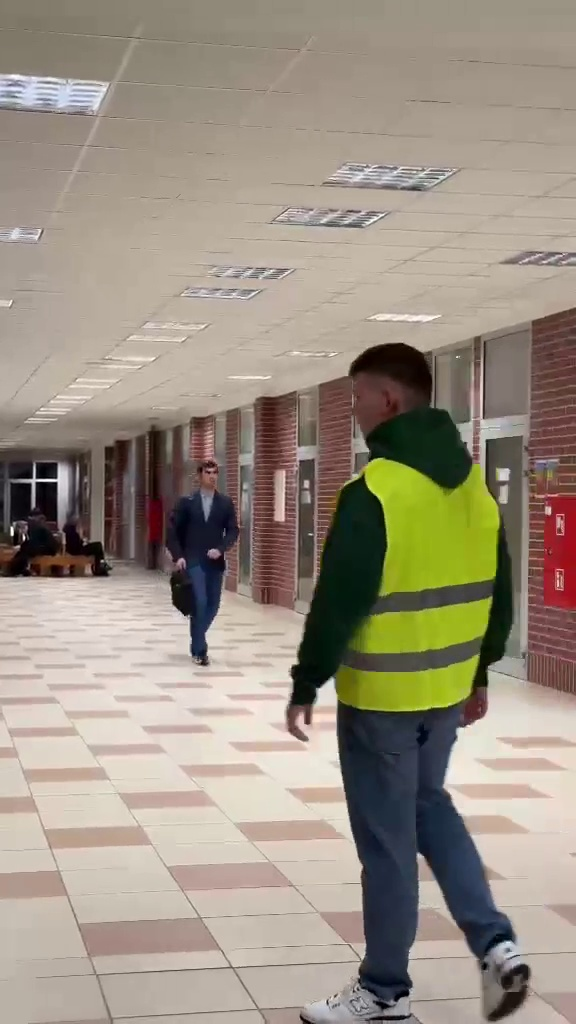no vest: (166, 461, 247, 669)
vest: (290, 342, 548, 1021)
